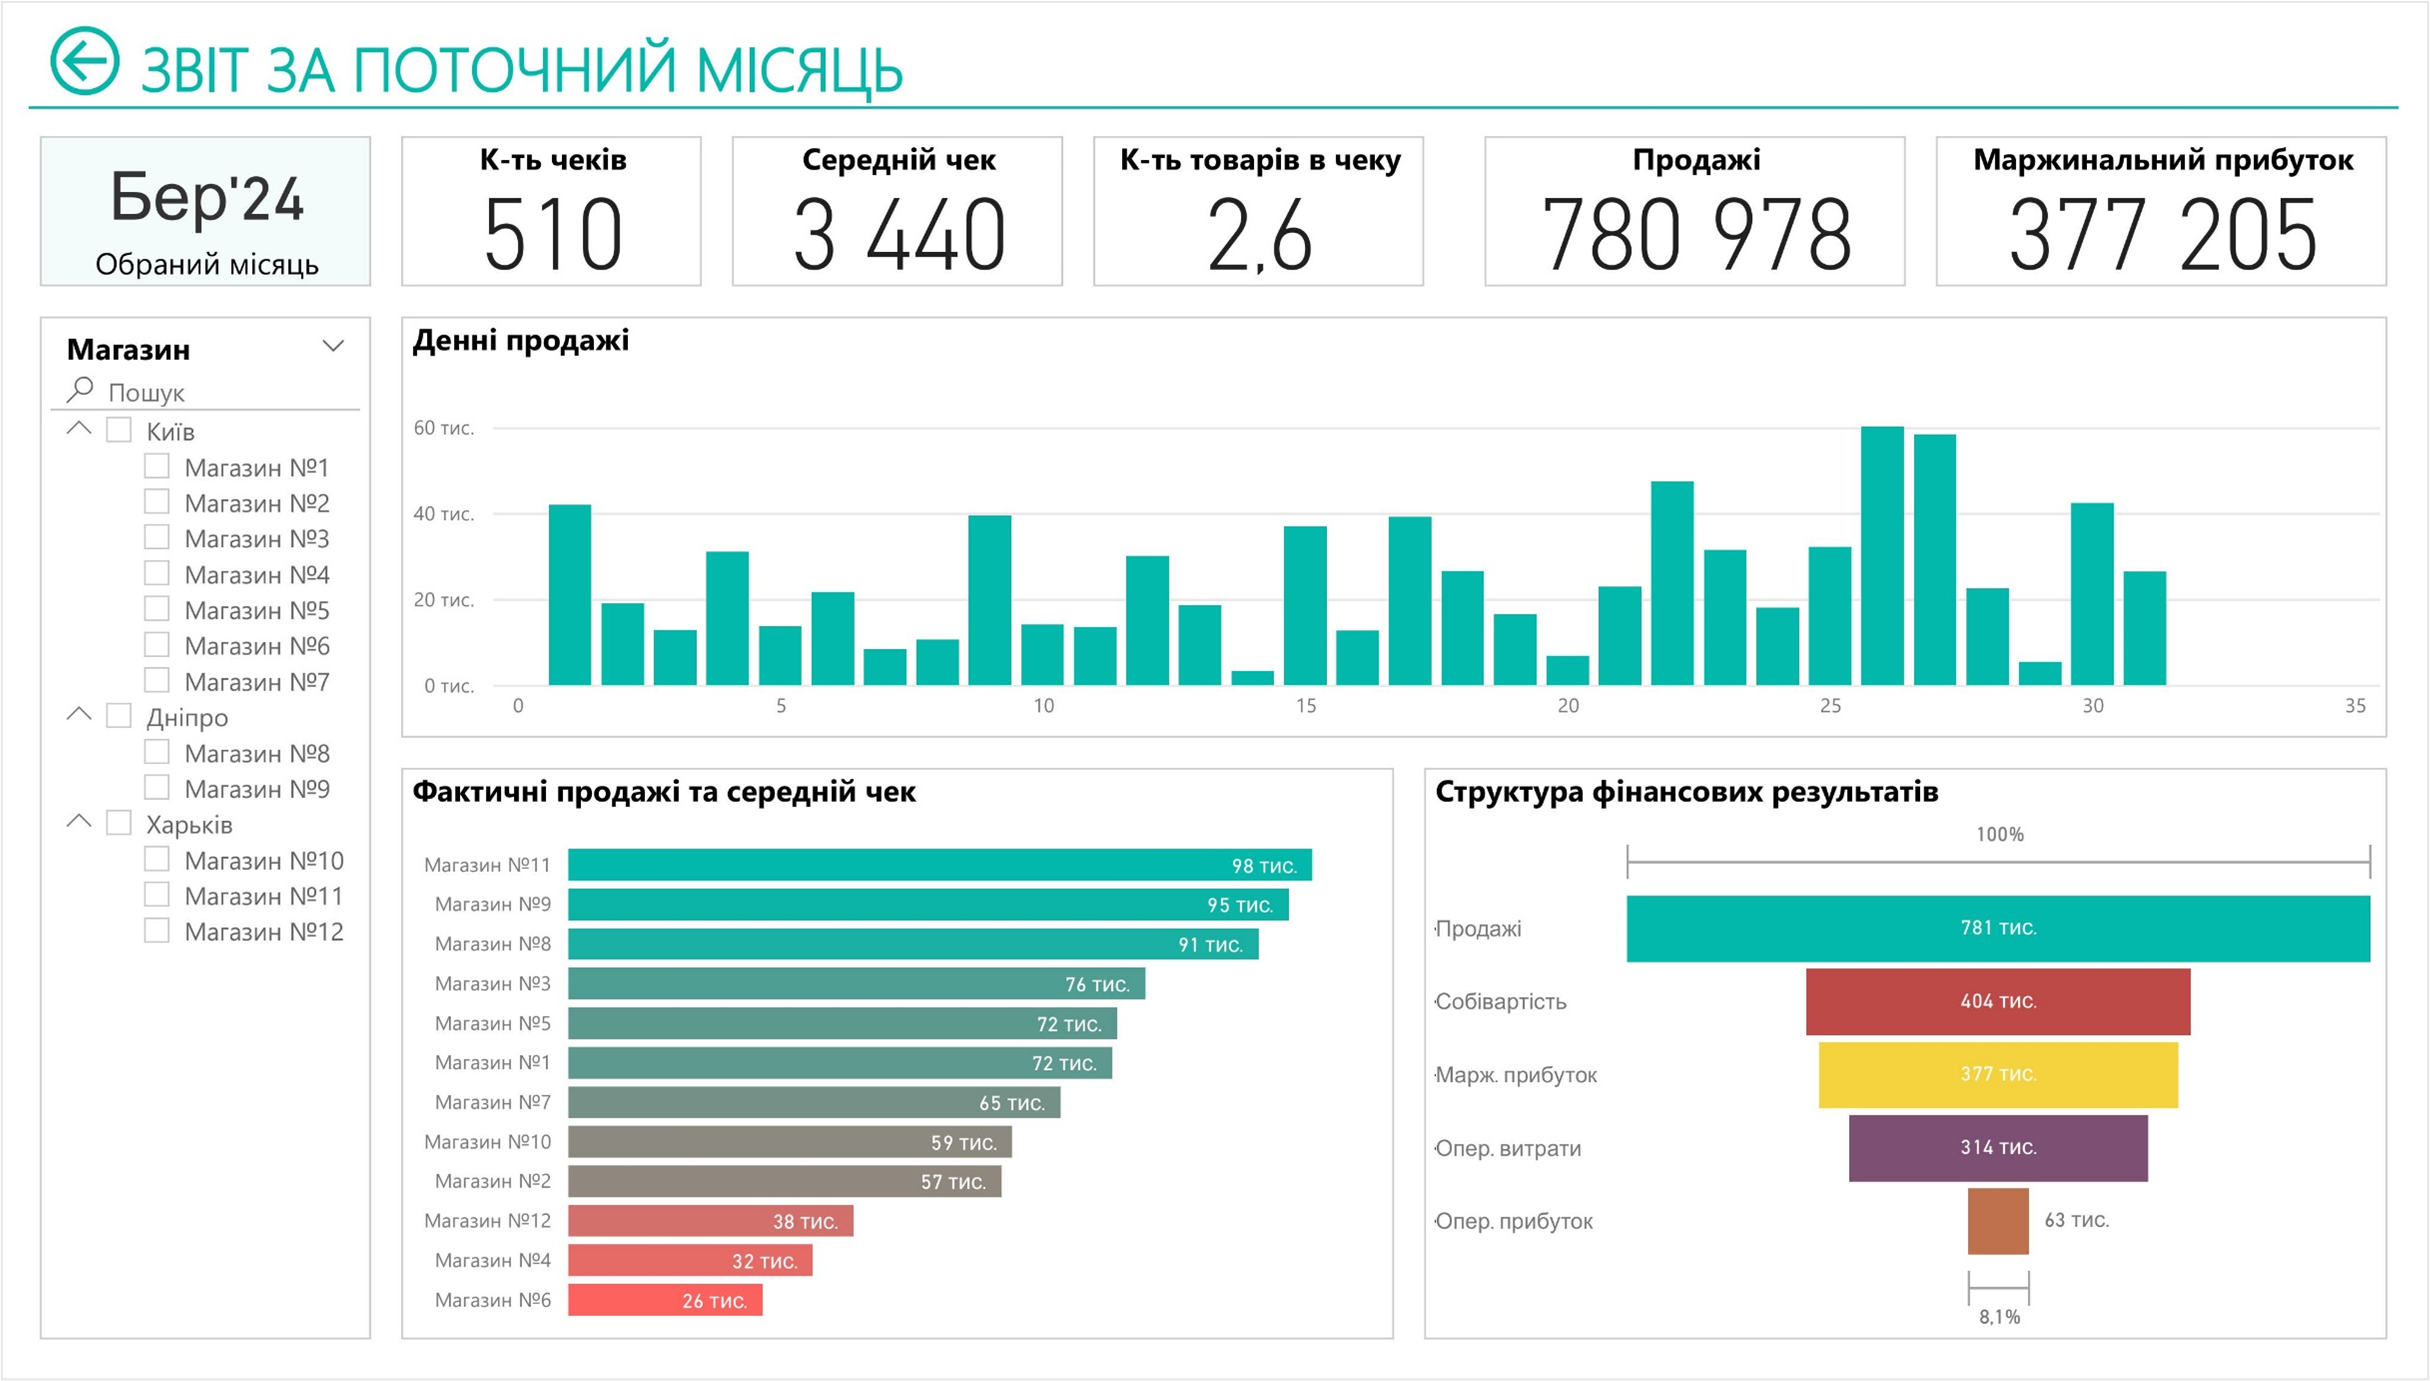

The page's visual inventory and layout, read from the dashboard file:
{"tool":"powerbi","page":{"name":"Звіт за поточний місяць","canvas":[1280,720],"ordinal":6},"visuals":[{"type":"slicer","fields":{"Values":["довМагазини.Місто","довМагазини.Магазин"]},"box":[16,160,176,544],"z":0},{"type":"basicShape","box":[0,33,1280,32],"z":1000},{"type":"textbox","box":[64,0,528,64],"z":2000},{"type":"actionButton","box":[16,0,48,48],"z":3000},{"type":"card","fields":{"Values":["Календар.Обраний місяць"]},"box":[16,64,176,80],"z":4000},{"type":"kpi","title":"Продажі","fields":{"Indicator":["рПродажіФакт.Продажі міра"],"TrendLine":["Календар.Місяць"]},"box":[784,64,224,80],"z":5000},{"type":"kpi","title":"Маржинальний прибуток","fields":{"TrendLine":["Календар.Місяць"],"Indicator":["рПродажіФакт.Маржинальний прибуток"]},"box":[1024,64,240,80],"z":6000},{"type":"kpi","title":"К-ть чеків","fields":{"TrendLine":["Календар.Місяць"],"Indicator":["CountNonNull(рПродажіФакт.№ чека)"]},"box":[208,64,160,80],"z":7000},{"type":"kpi","title":"Середній чек","fields":{"TrendLine":["Календар.Місяць"],"Indicator":["рПродажіФакт.Ср.чек 1"]},"box":[384,64,176,80],"z":8000},{"type":"funnel","title":"Структура фінансових результатів","fields":{"Y":["Sum(рПродажіФакт.ПродажіФакт)","Sum(рПродажіФакт.Собівартість закупки)","рПродажіФакт.Маржинальний прибуток","рОпер витрати.Опер.витрати факт","рПродажіФакт.Операційний прибуток"]},"box":[752,400,512,304],"z":9000},{"type":"clusteredColumnChart","title":"Денні продажі","fields":{"Y":["рПродажіФакт.Продажі міра"],"Category":["Календар.Дата.Варіація.Ієрархія дат.День"]},"box":[208,160,1056,224],"z":10000},{"type":"kpi","title":"К-ть товарів в чеку","fields":{"TrendLine":["Календар.Місяць"],"Indicator":["рПродажіФакт.Кількість товарів в чеку"]},"box":[576,64,176,80],"z":11000},{"type":"clusteredBarChart","title":"Фактичні продажі та середній чек","fields":{"Y":["Sum(рПродажіФакт.ПродажіФакт)"],"Category":["довМагазини.Магазин","довМагазини.Місто"]},"box":[208,400,528,304],"z":12000}]}

Visuals, with their boxes in screenshot pixels (x1, y1, x2, y2), scaled from the page's 1280x720 canvas onto the 2430x1381 screenshot:
slicer - довМагазини.Місто x довМагазини.Магазин: 30 307 364 1350
basicShape: 0 63 2429 125
textbox: 122 0 1124 123
actionButton: 30 0 122 92
card - Календар.Обраний місяць: 30 123 364 276
"Продажі" kpi: 1488 123 1914 276
"Маржинальний прибуток" kpi: 1944 123 2400 276
"К-ть чеків" kpi: 395 123 699 276
"Середній чек" kpi: 729 123 1063 276
"Структура фінансових результатів" funnel: 1428 767 2400 1350
"Денні продажі" clusteredColumnChart: 395 307 2400 737
"К-ть товарів в чеку" kpi: 1094 123 1428 276
"Фактичні продажі та середній чек" clusteredBarChart: 395 767 1397 1350
